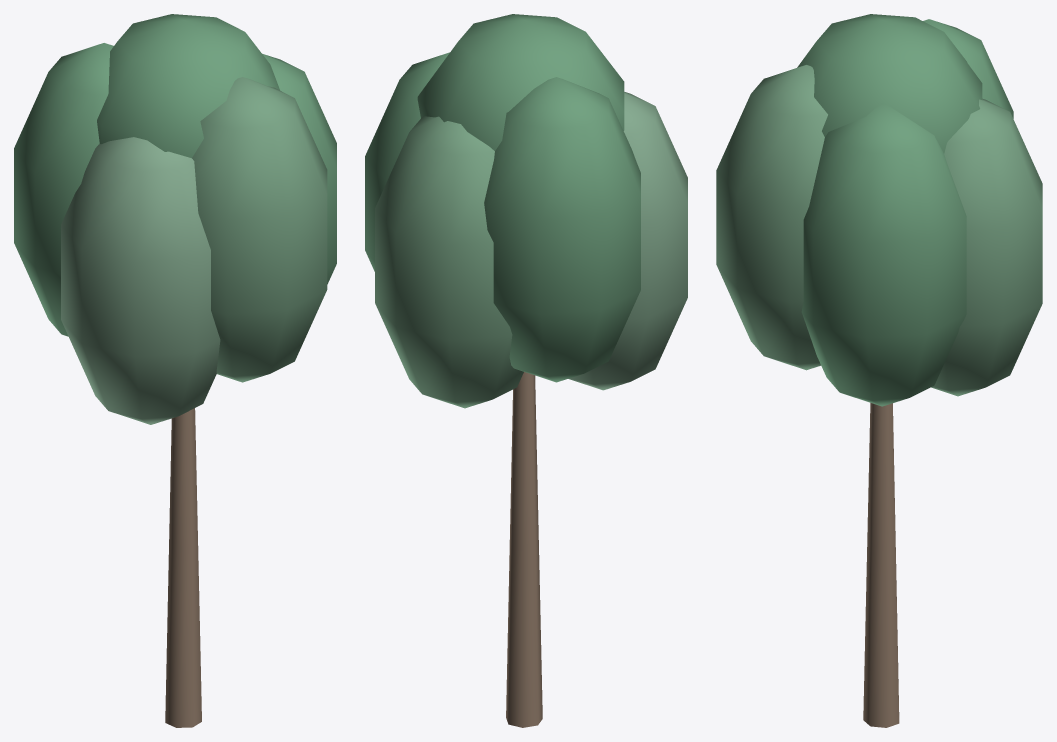
3 renders of one model, left to right at view 1: azimuth 30°, elevation 25°; view 2: azimuth 150°, elevation 25°; view 3: azimuth 270°, elevation 25°, orthographic.
Visible parts, largest first — view 1: Visual; view 2: Visual; view 3: Visual.
Boxes of the visible parts, box(x1,y1,x2,y2) form: Visual: box(14, 14, 336, 727); Visual: box(365, 14, 687, 727); Visual: box(716, 14, 1042, 727).
Bounding box in the file's own units: 8.39 × 20.16 × 8.51.
